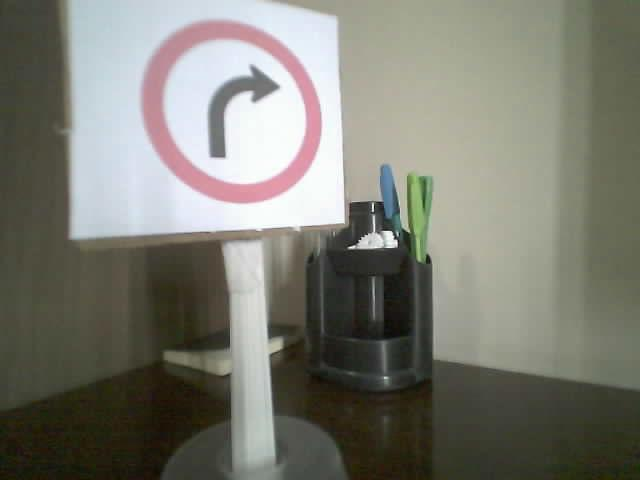R-25b_direita: (141, 19, 322, 203)
